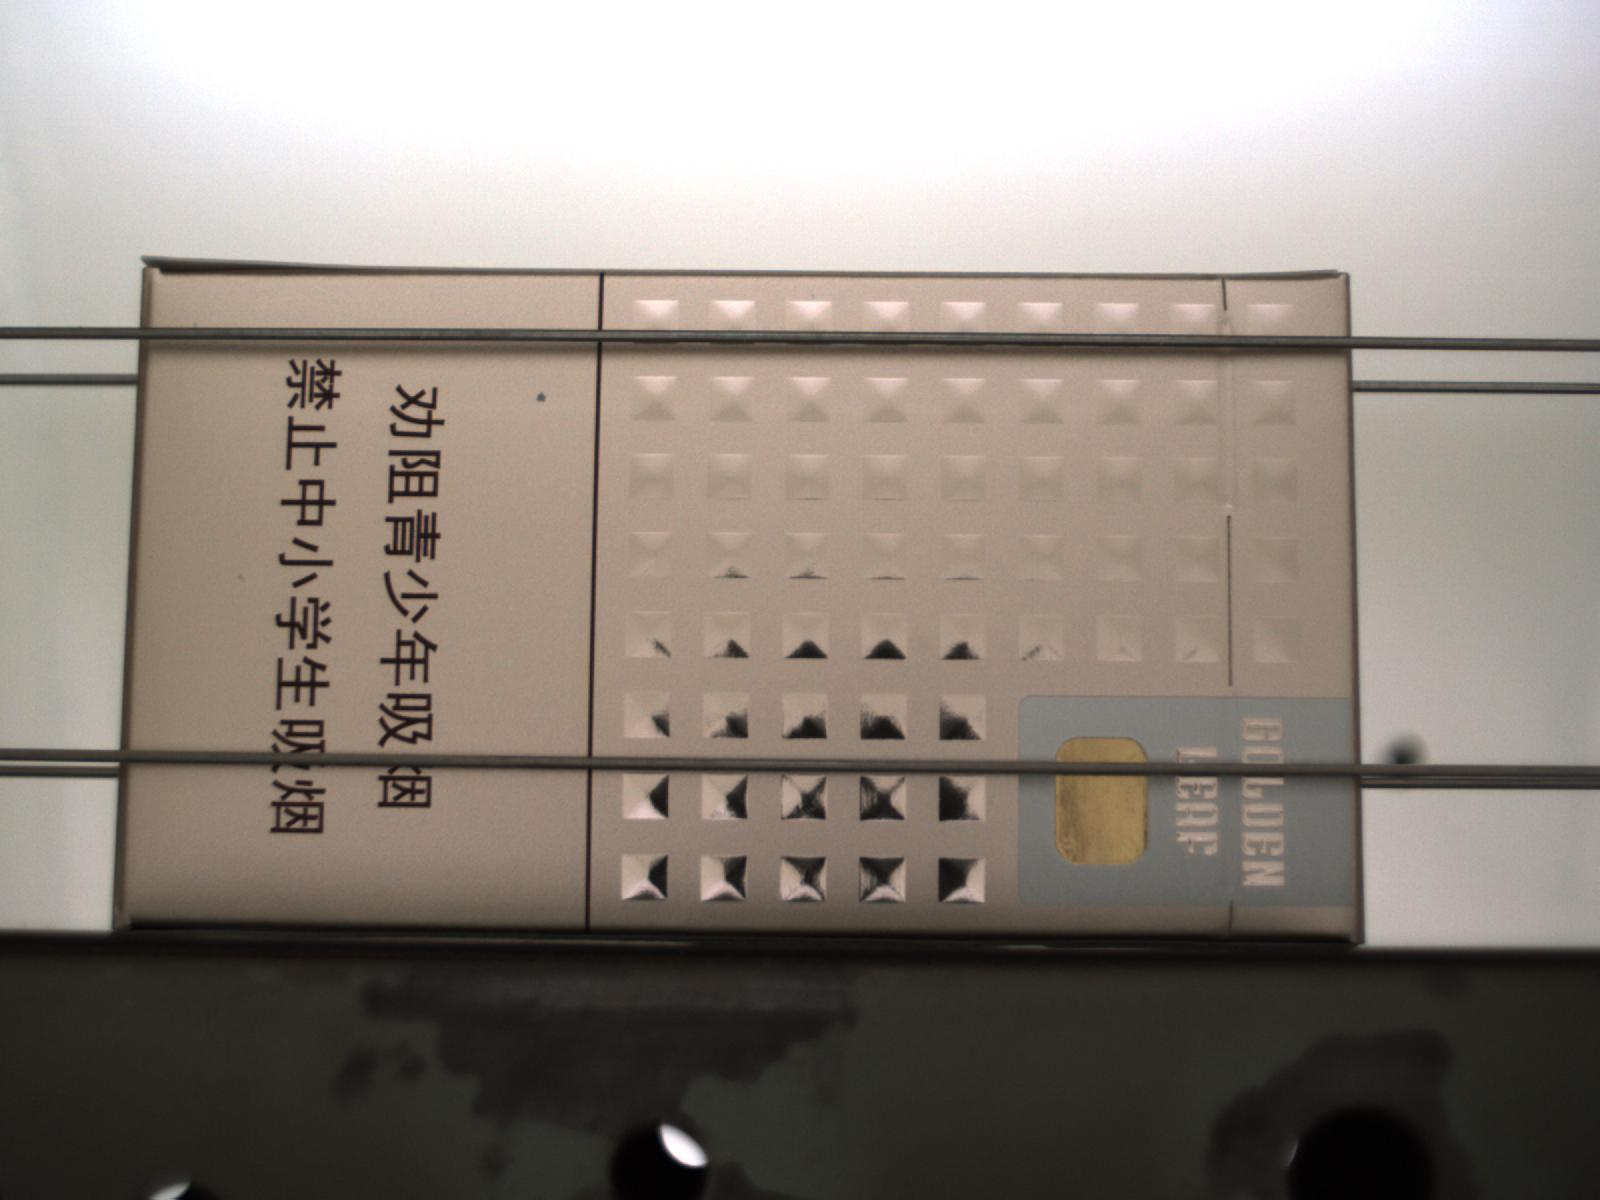bottomUpwarp_upper_1: (140, 253, 399, 279)
dirtyOil: (535, 392, 549, 405)
dirtySpot: (234, 572, 248, 584)
